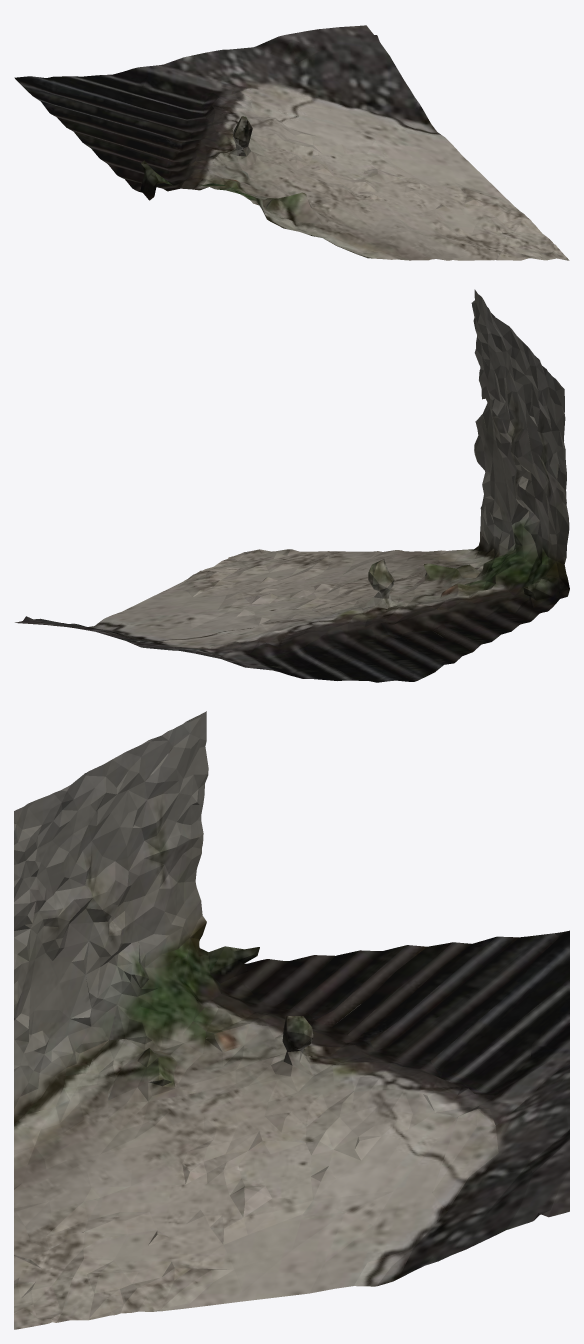
3 renders of one model, top to bottom at view 1: azimuth 30°, elevation 25°; view 2: azimuth 150°, elevation 25°; view 3: azimuth 270°, elevation 25°, orthographic. The views are drawn at different scales.
Size of the model in its own units: 0.8373 by 0.6377 by 0.8374.
3 materials, 3 textured.
